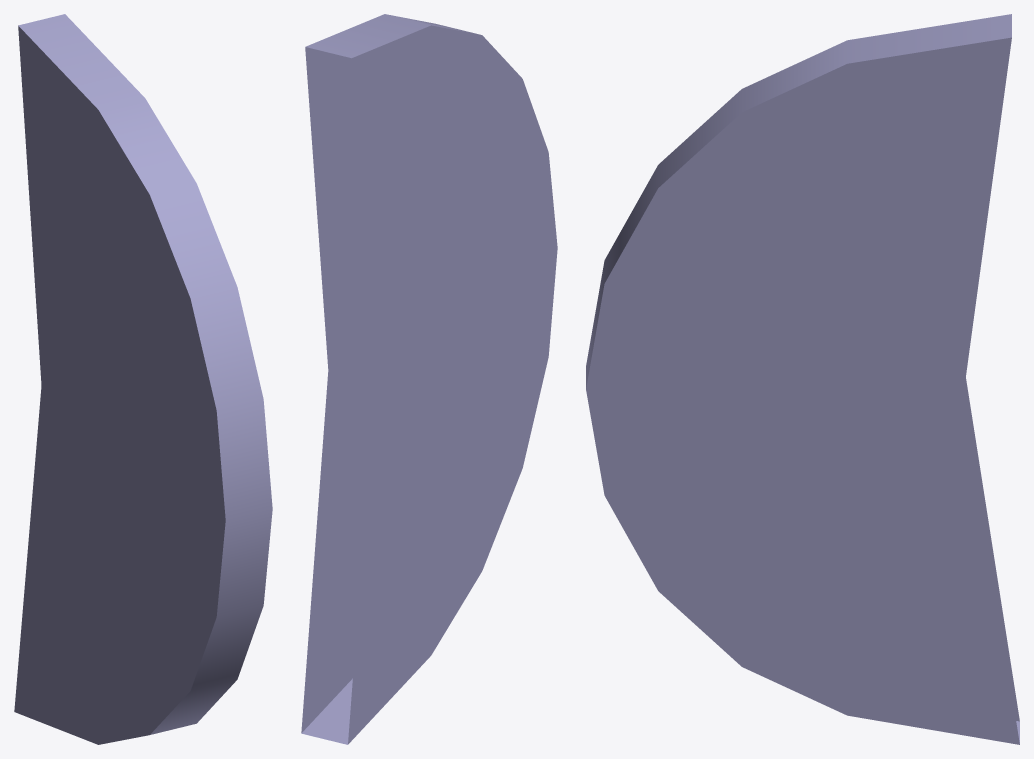
File: Disk_Game_S_03.fbx
3 renders of one model, left to right at view 1: azimuth 30°, elevation 25°; view 2: azimuth 150°, elevation 25°; view 3: azimuth 270°, elevation 25°, orthographic. The views are drawn at different scales.
Parts seen in each view (by area): view 1: Disk_Game_S_03; view 2: Disk_Game_S_03; view 3: Disk_Game_S_03.
Boxes of the visible parts, x1,y1,x2,y2 form: Disk_Game_S_03: (14,14,272,744); Disk_Game_S_03: (301,14,557,744); Disk_Game_S_03: (586,14,1019,744).
Size of the model in its own units: 2.17 by 30.5 by 16.95.
